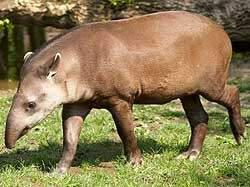Anta: (4, 13, 250, 181)
